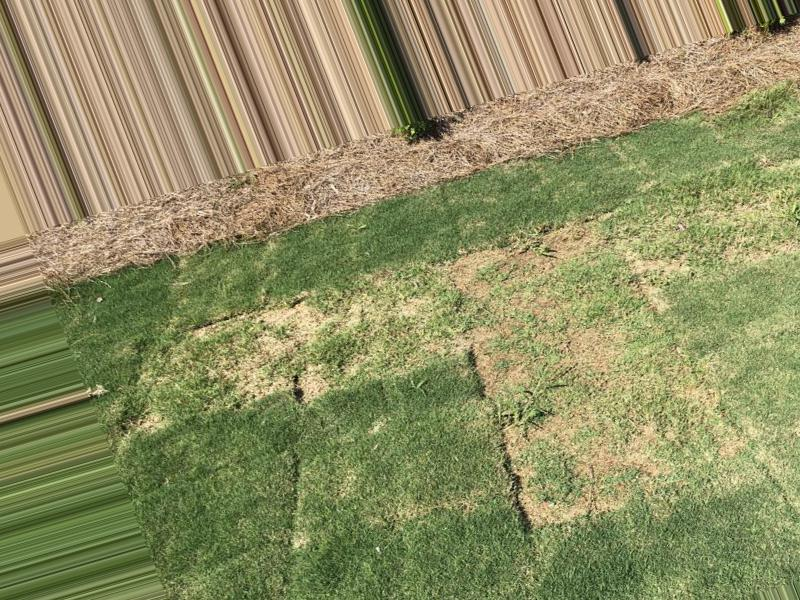patch: (507, 345, 642, 492), (330, 292, 462, 381), (236, 311, 318, 396), (251, 173, 348, 223), (95, 214, 216, 249)
